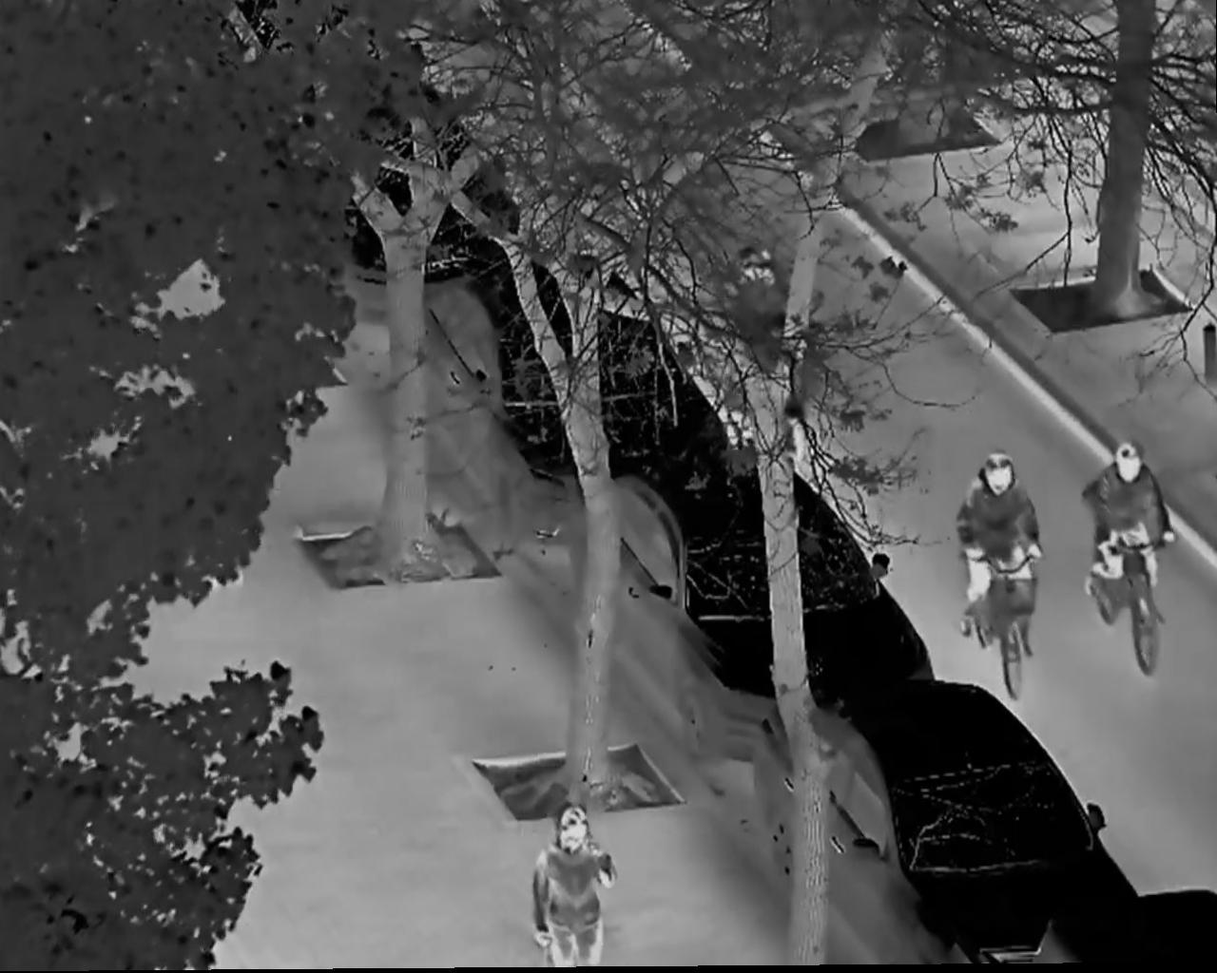person: (956, 449, 1040, 652), (1084, 442, 1174, 618), (533, 806, 615, 973), (720, 238, 797, 359)
